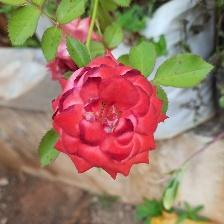rose: (51, 62, 170, 184)
